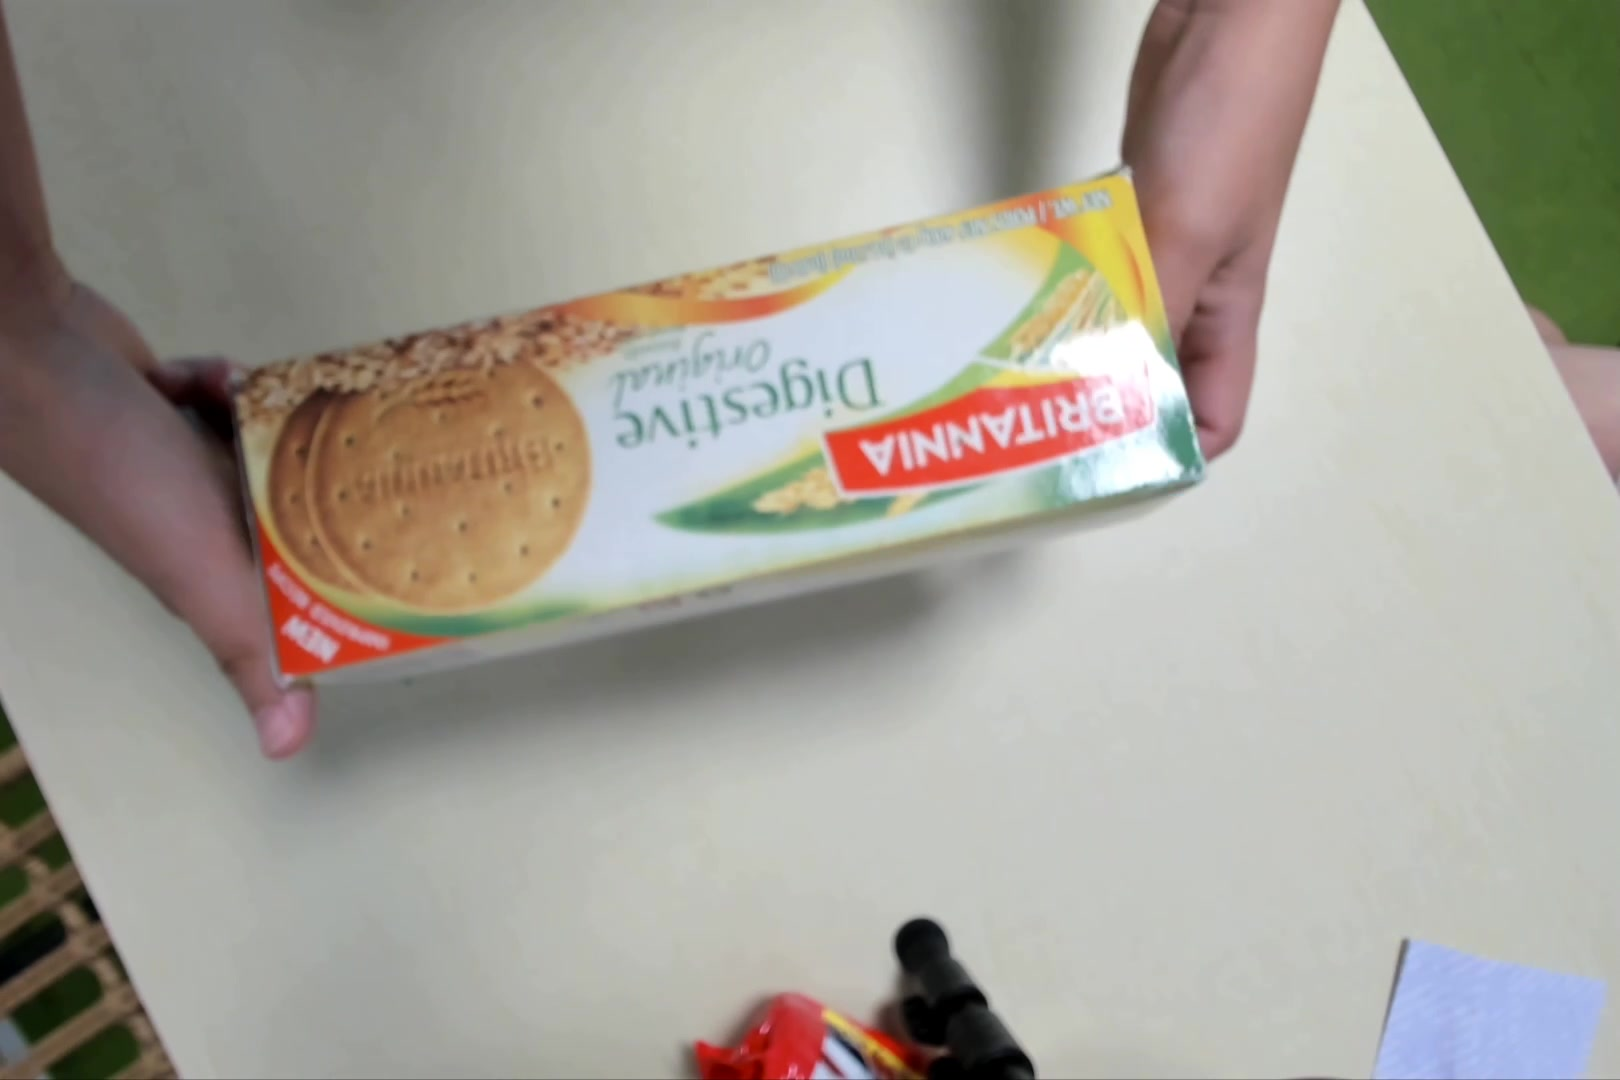BiscuitsCrackersCookies_400-499g_NonHalal_NonHealthy: (227, 183, 1195, 699)
